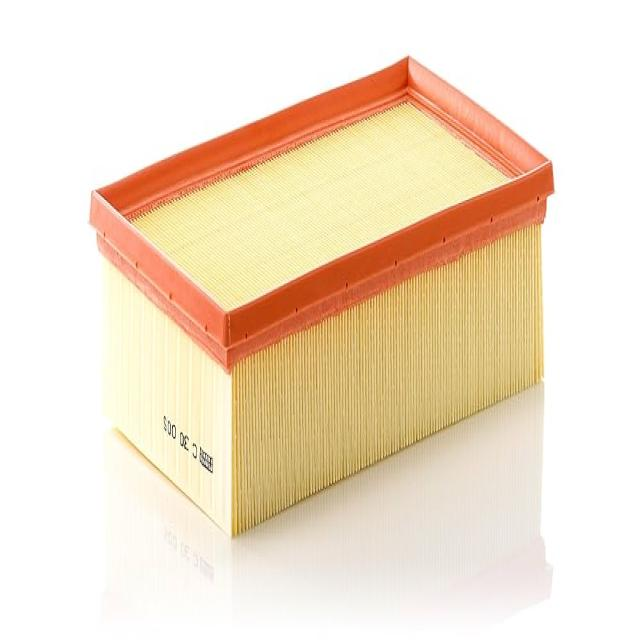air_filter: (82, 46, 560, 536)
